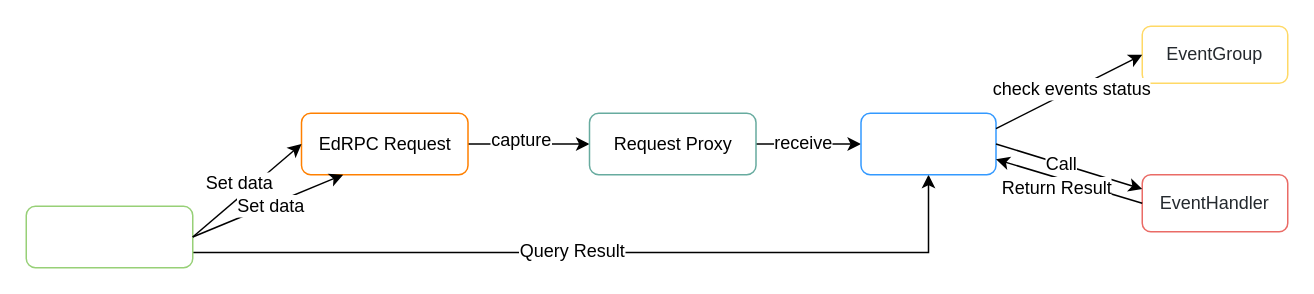
Some shapes in this 1314 by 294 pixel diagram are drawn without their labels. Here are the shapes that lost their labels. From the top down, the box of each, then its label:
(860, 112, 996, 175): EventMgt
(25, 205, 193, 268): Client
